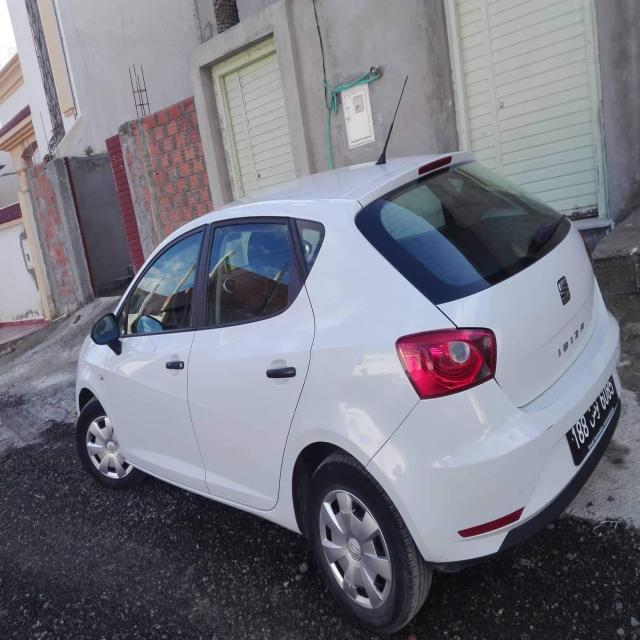LP: (568, 369, 618, 466)
